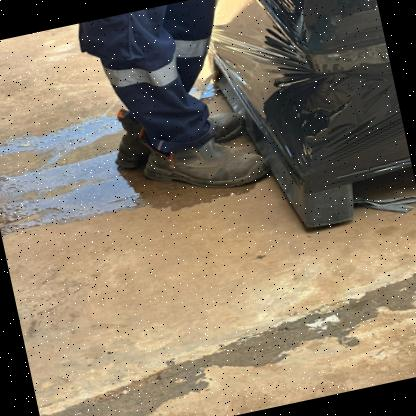bota: (121, 95, 277, 168), (153, 129, 271, 218)
